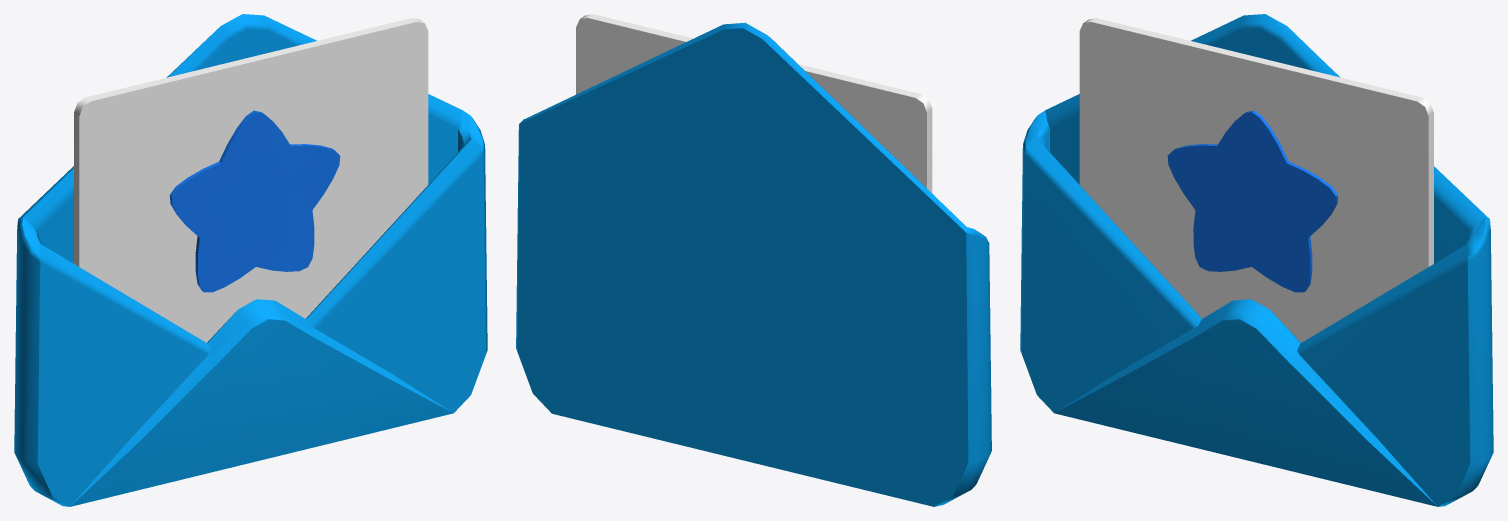
3 renders of one model, left to right at view 1: azimuth 30°, elevation 25°; view 2: azimuth 150°, elevation 25°; view 3: azimuth 330°, elevation 25°, orthographic.
Parts seen in each view (by area): view 1: model_0.028; view 2: model_0.028; view 3: model_0.028.
Part boxes in pixels (x1,y1,x2,y2): model_0.028: (14,14,487,506); model_0.028: (516,14,991,506); model_0.028: (1020,14,1493,506).
Size of the model in its own units: 4.01 by 3.58 by 0.4239.
